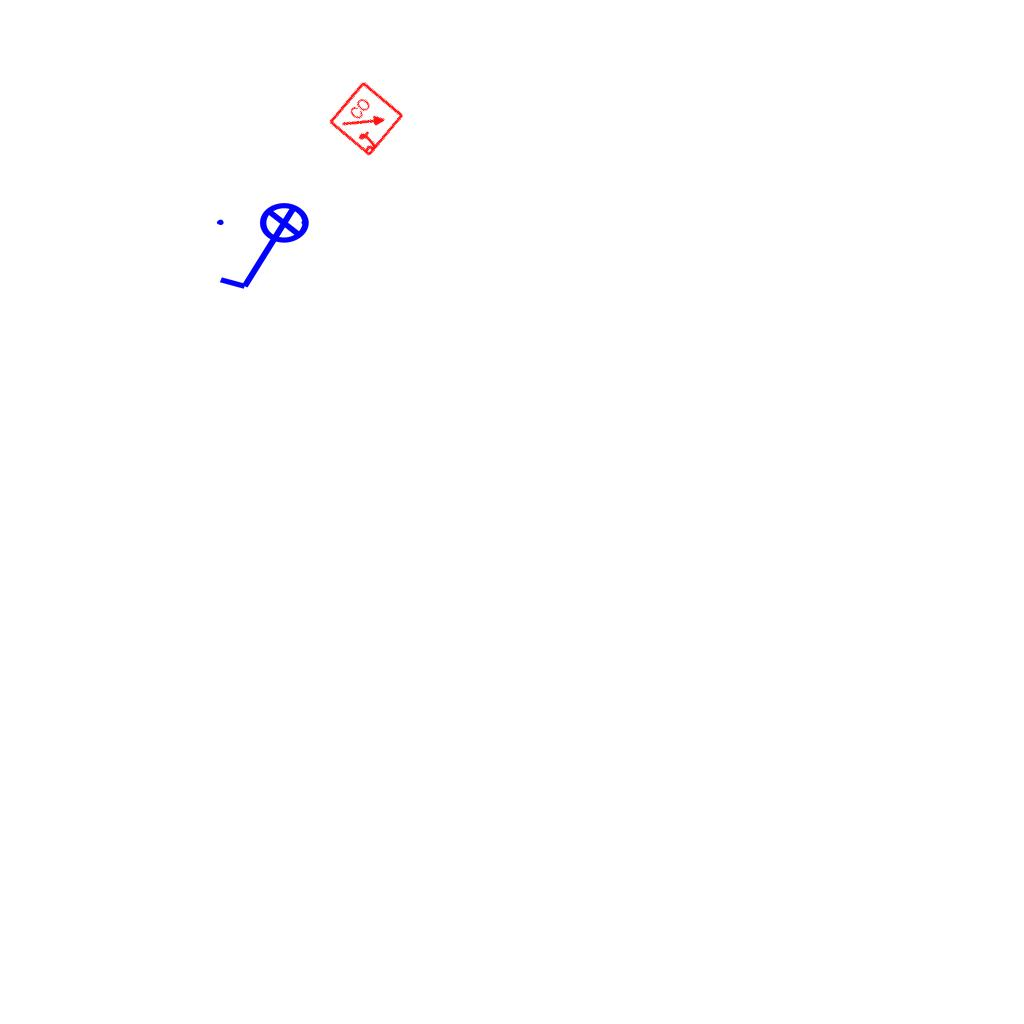Ausschalter_beleuchtet: (211, 201, 323, 297)
ROA_Rauchmelder_optisch_mit_Signalgeber_(Sockelsirene): (327, 79, 407, 159)
